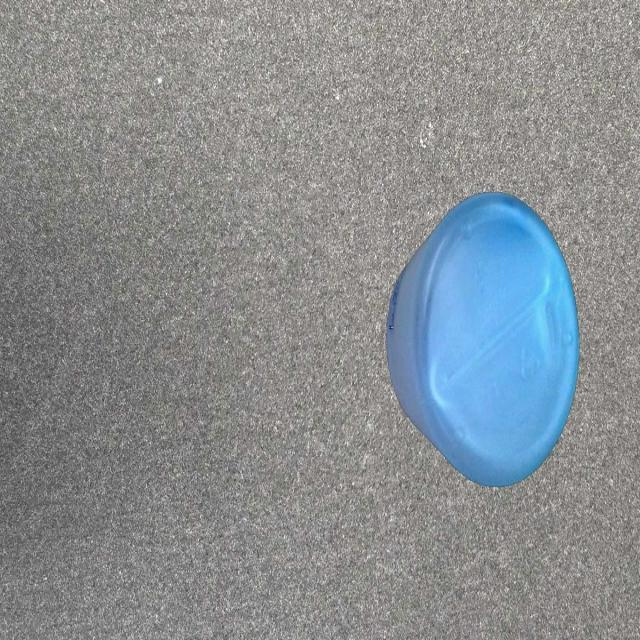bottle: (383, 188, 584, 500)
